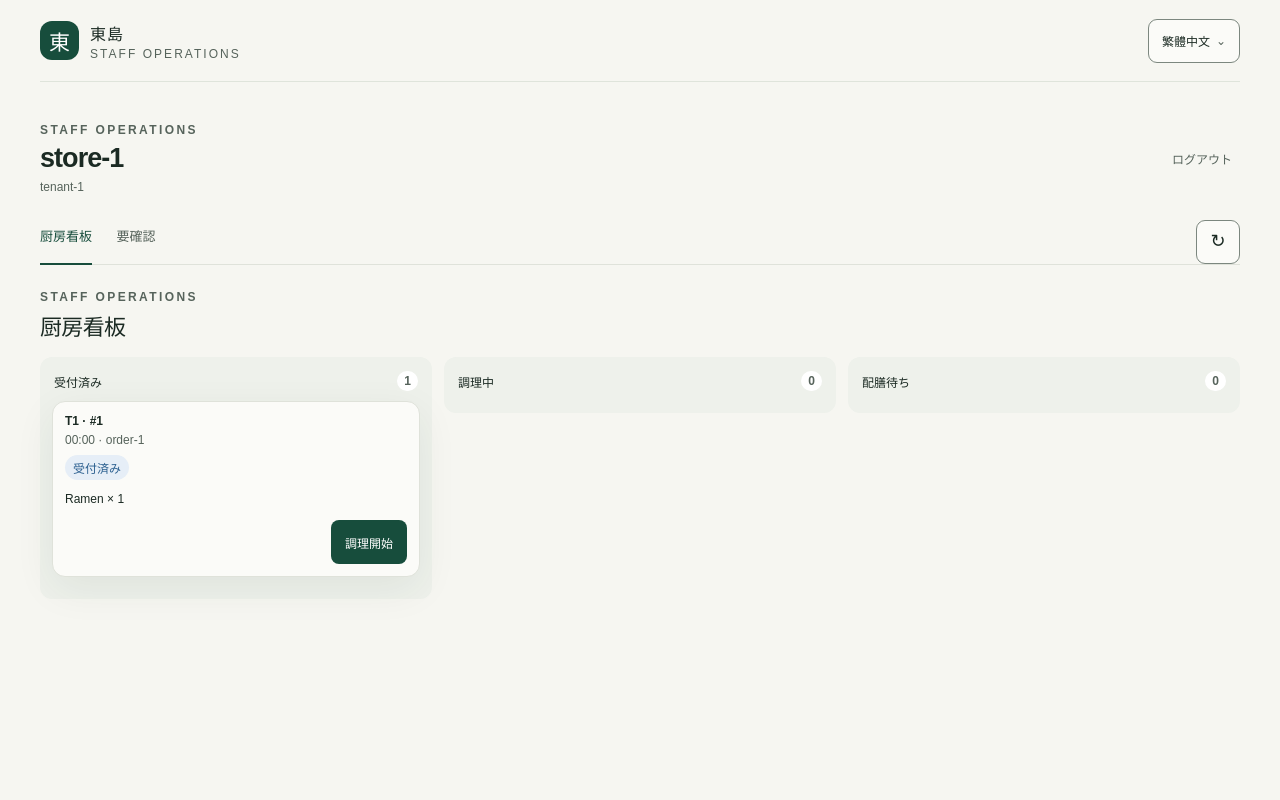
staff cookie authentication UI › clears workspace data and preserves context when a cookie staff write returns 401
What coordinates should you click on to do the following:
click the button "調理開始"
I would click on:
 (369, 542)
Its box is [331,520,407,564].
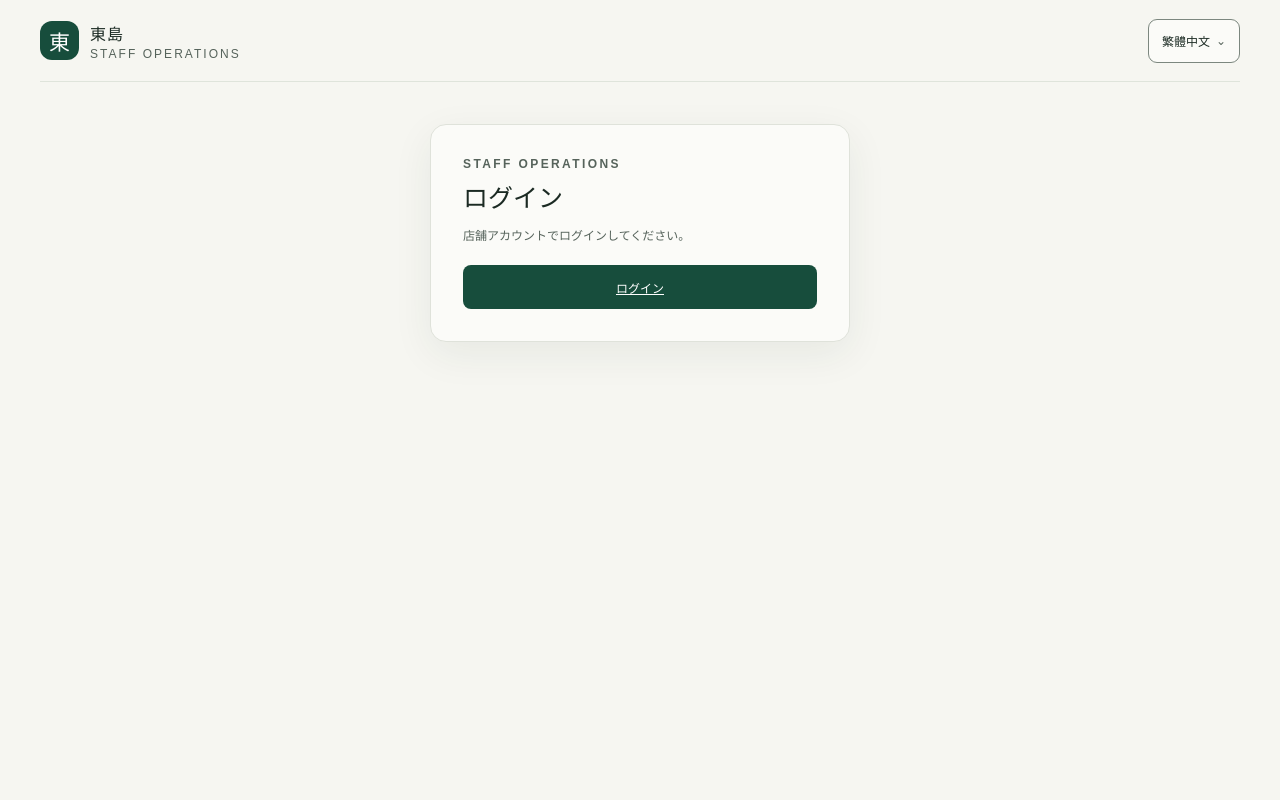
Expected: the link "ログイン" is shown, [463,265,817,309]
Expected: the element with class "staff-workspace" is gone
Expected: the text "Ramen" is gone
